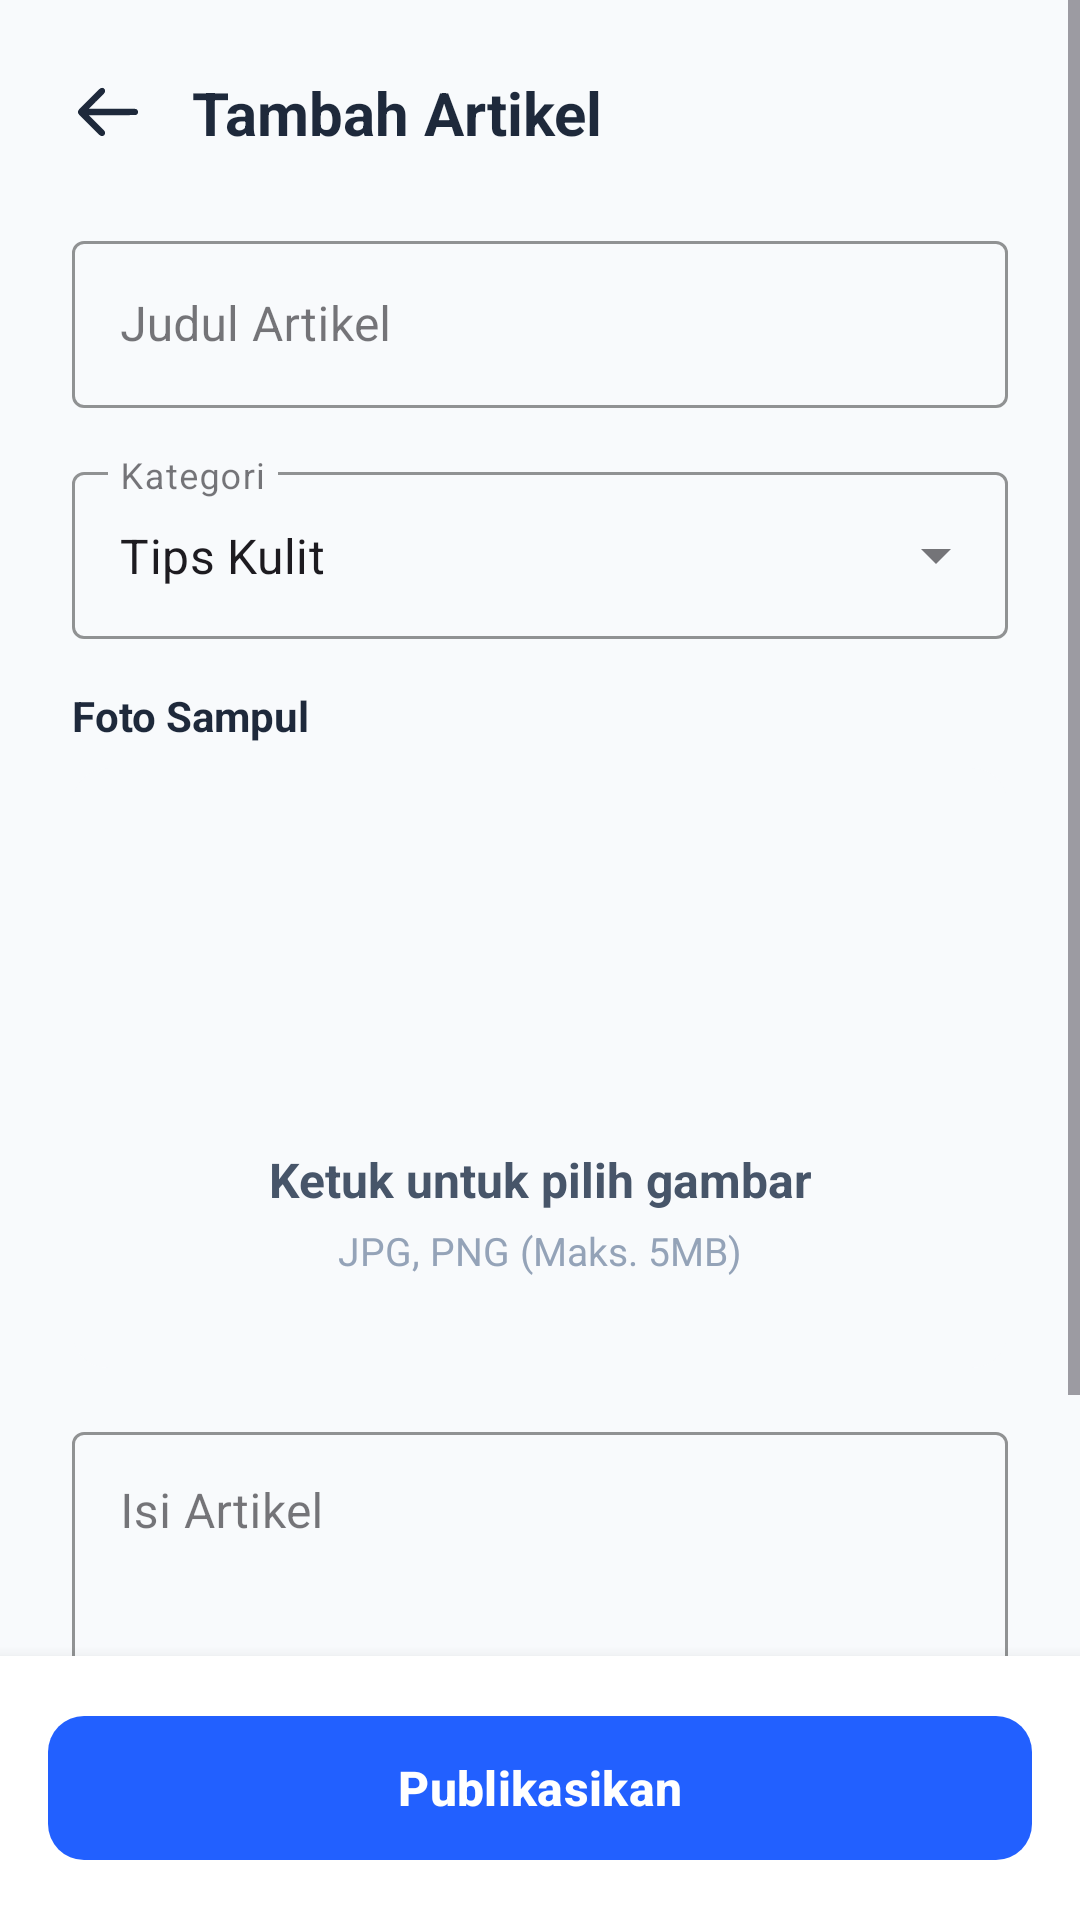

Where to tap for icons on this 1080px x 1920px app screen, as [x,y]:
Kembali: [108,112]
